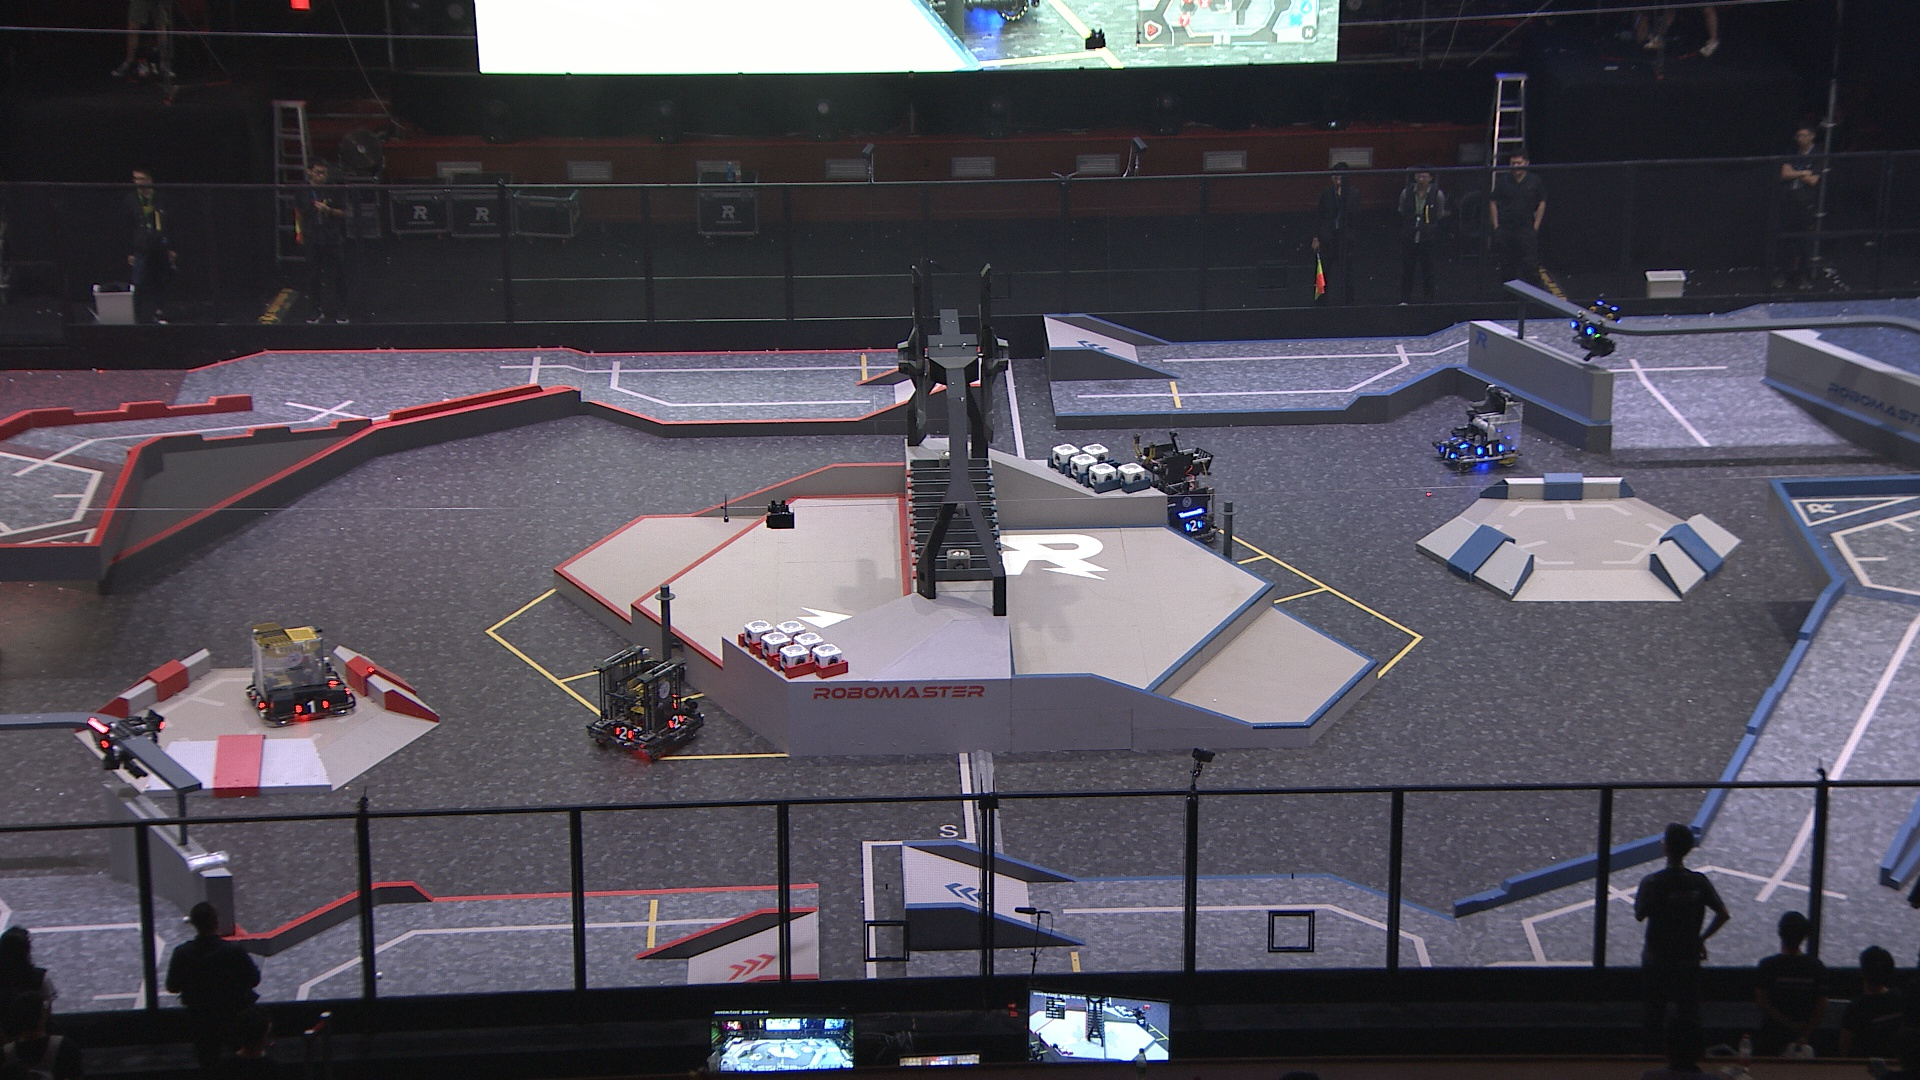armor: (295, 698, 330, 716), (87, 727, 109, 752), (1569, 320, 1596, 338), (1447, 434, 1470, 452), (1437, 446, 1458, 465), (667, 712, 684, 733), (615, 727, 636, 744), (1481, 443, 1501, 458), (253, 692, 266, 713), (1183, 520, 1204, 533), (324, 669, 338, 687)
car: (583, 642, 705, 761), (245, 618, 357, 728), (1134, 436, 1225, 542), (1433, 385, 1528, 473)
watcher: (86, 702, 167, 777), (1567, 297, 1621, 361)
